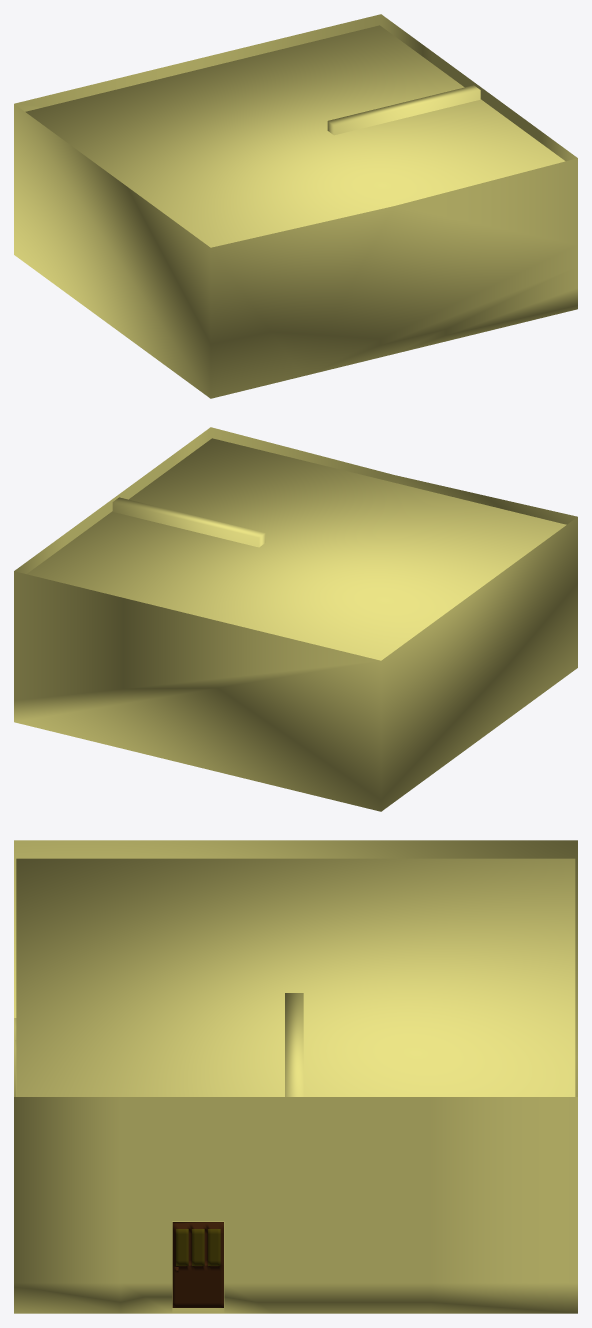
Rendered from Primer piso listo.glb.
3 views of the same model, one above another, from view 1: azimuth 30°, elevation 25°; view 2: azimuth 150°, elevation 25°; view 3: azimuth 270°, elevation 25° (orthographic). The views are drawn at different scales.
Visible parts, largest first — view 1: Cube.001, Cube.007; view 2: Cube.001, Cube.007; view 3: Cube.001, Sphere, Cube.007.
Part boxes in pixels (bbox=[...]): Cube.001: bbox=[14, 14, 577, 398]; Cube.007: bbox=[327, 85, 480, 135]; Cube.001: bbox=[14, 427, 577, 811]; Cube.007: bbox=[112, 497, 265, 547]; Cube.001: bbox=[14, 840, 577, 1313]; Sphere: bbox=[172, 1222, 223, 1307]; Cube.007: bbox=[285, 993, 303, 1096].
Size of the model in its own units: 15.11 by 5.93 by 13.92.
